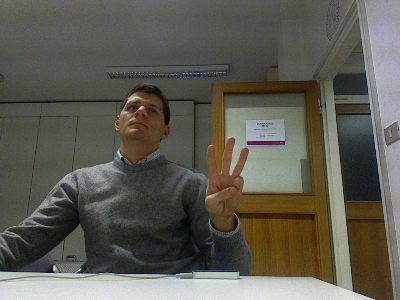三分: (204, 135, 248, 219)
